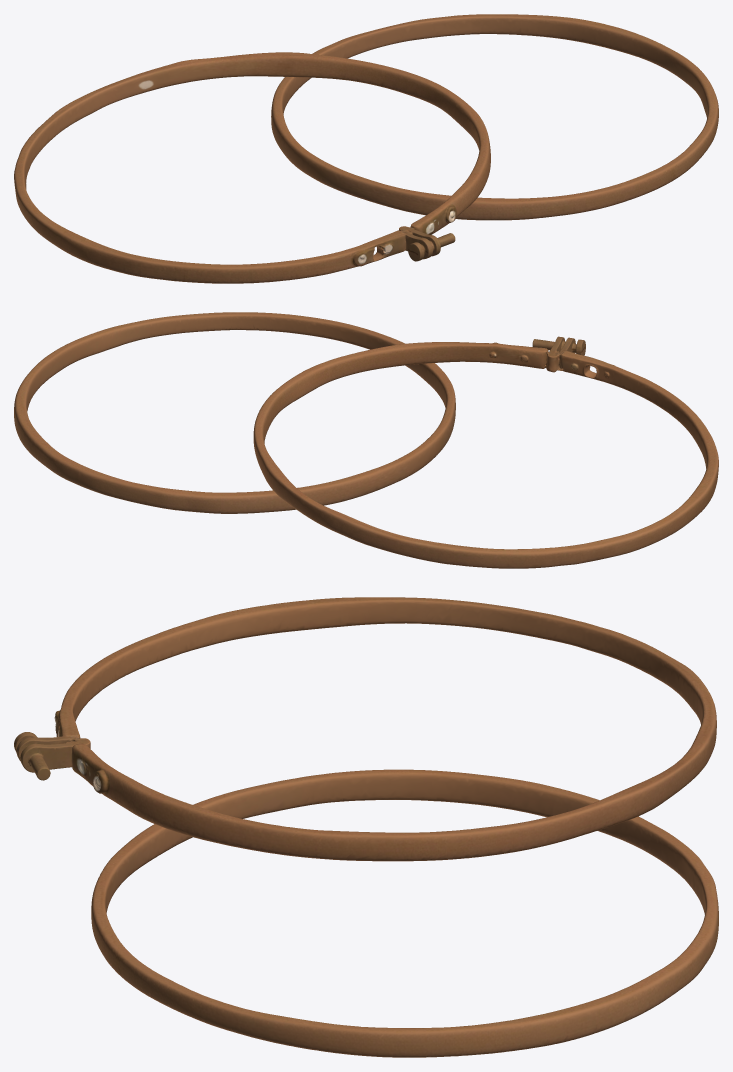
The model's file is djerdjef.glb.
3 renders of one model, top to bottom at view 1: azimuth 30°, elevation 25°; view 2: azimuth 150°, elevation 25°; view 3: azimuth 270°, elevation 25°, orthographic. The views are drawn at different scales.
Bounding box in the file's own units: 1.9 × 0.1287 × 1.28.
Materials: 1 (1 with a texture image).
